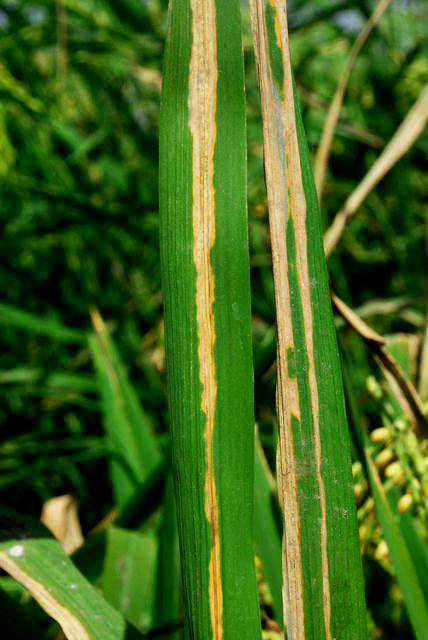2 BacterialBlight: (254, 1, 348, 634), (184, 1, 239, 635)
